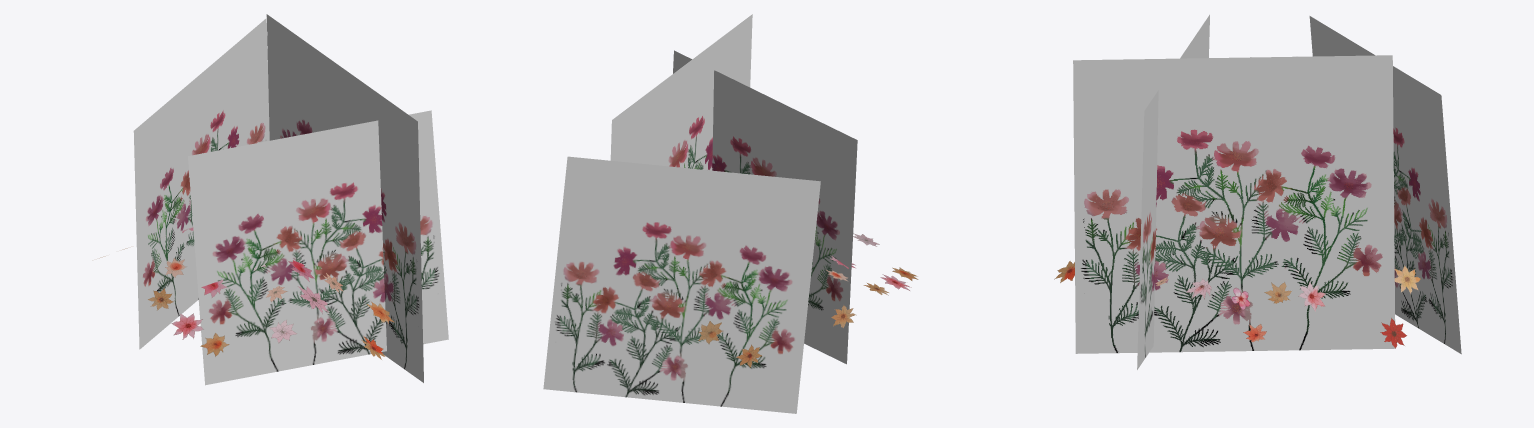
Rendered from flower2.fbx.
3 views of the same model, side by side, from view 1: azimuth 30°, elevation 25°; view 2: azimuth 150°, elevation 25°; view 3: azimuth 270°, elevation 25° (orthographic). The views are drawn at different scales.
Visible parts, largest first — view 1: pPlane75; view 2: pPlane75; view 3: pPlane75.
Part boxes in pixels (<box>): pPlane75: <box>92,14,448,385</box>; pPlane75: <box>543,14,918,413</box>; pPlane75: <box>1054,14,1461,369</box>.
Bounding box in the file's own units: 1.65 × 1.05 × 1.75.
